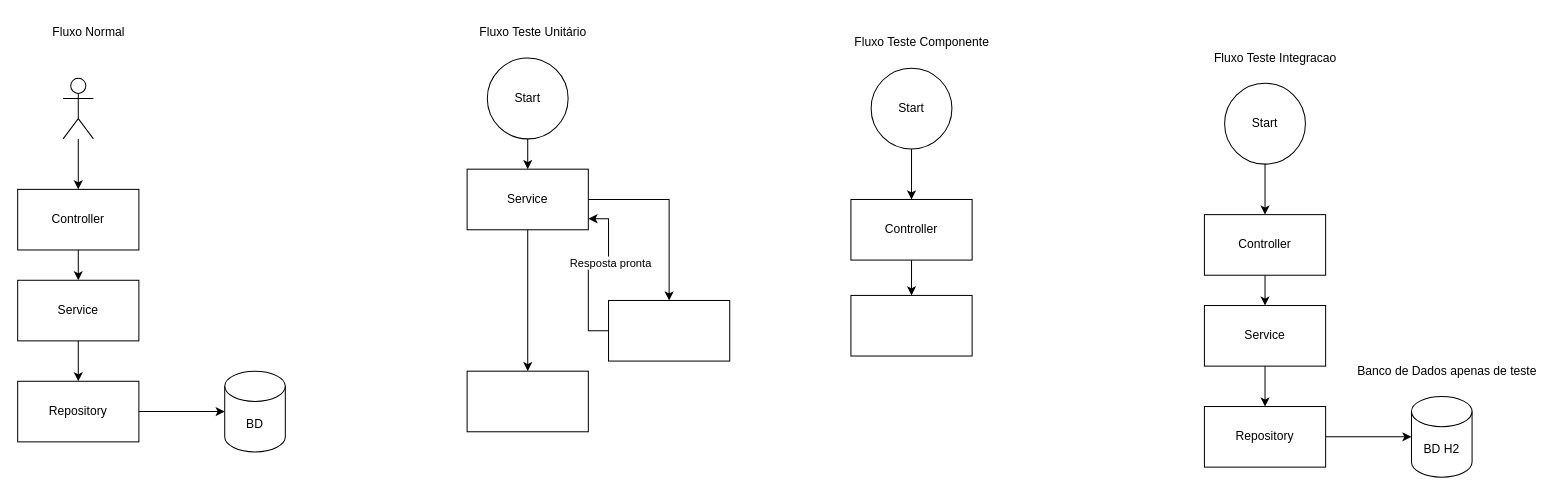
Image size: 1566x495. Some labels were removed from this diagram. The shapes that lost their labels are listed below. From the top down, each one's centre as x and y in pixels, then its label:
At point 77,108: "User".
At point 669,330: "Repository Mock".
At point 911,325: "Service Mock".
At point 527,401: "Validaçao".
